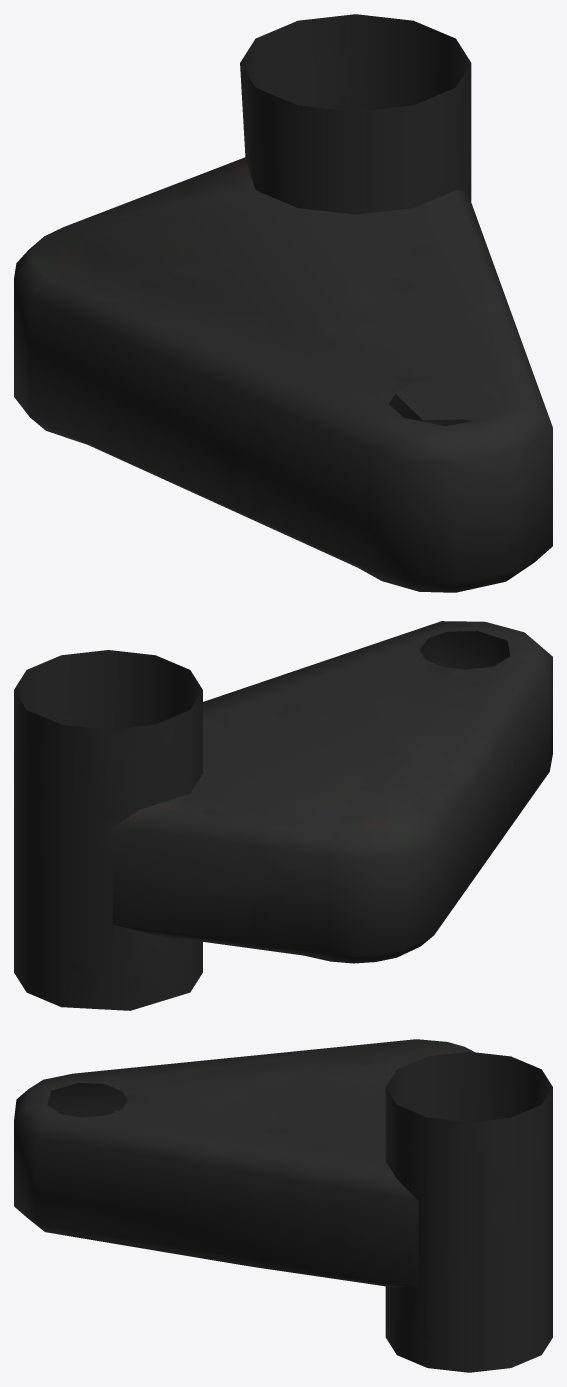
The model's file is right_gripper_2.dae.
3 views of the same model, one above another, from view 1: azimuth 30°, elevation 25°; view 2: azimuth 150°, elevation 25°; view 3: azimuth 270°, elevation 25° (orthographic). The views are drawn at different scales.
Visible parts, largest first — view 1: right_gripper_2; view 2: right_gripper_2; view 3: right_gripper_2.
Part boxes in pixels (box(x1,y1,x2,y2)): right_gripper_2: box(14, 14, 552, 592); right_gripper_2: box(14, 621, 552, 1010); right_gripper_2: box(14, 1039, 552, 1372).
Bounding box in the file's own units: 0.0236 × 0.0329 × 0.0169.
